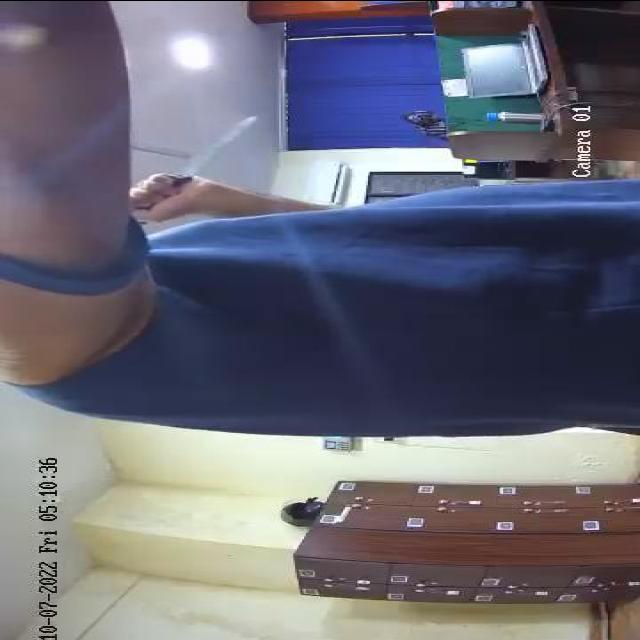Sharp-Object: (133, 114, 260, 217)
